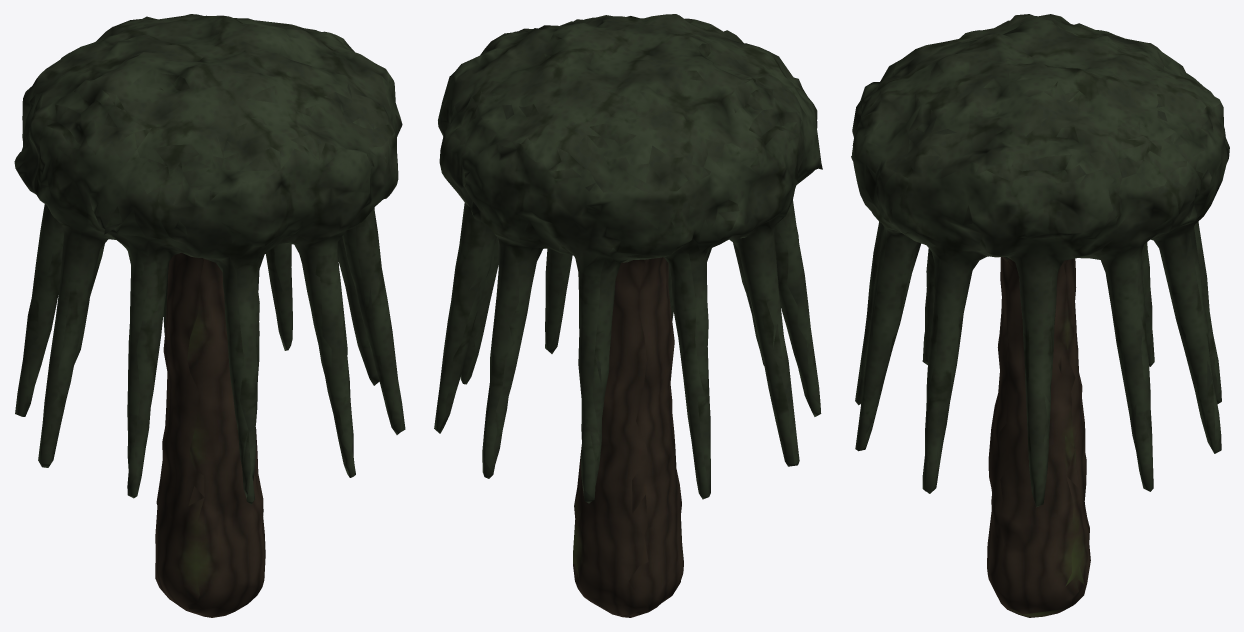
The model's file is willow.glb.
3 views of the same model, side by side, from view 1: azimuth 30°, elevation 25°; view 2: azimuth 150°, elevation 25°; view 3: azimuth 270°, elevation 25° (orthographic).
Visible parts, largest first — view 1: Base; view 2: Base; view 3: Base.
Boxes of the visible parts, x1,y1,x2,y2 form: Base: [14, 14, 405, 617]; Base: [434, 14, 822, 617]; Base: [851, 14, 1229, 617].
Size of the model in its own units: 0.8664 by 1.39 by 0.8513.
Materials: 2 (2 with a texture image).
